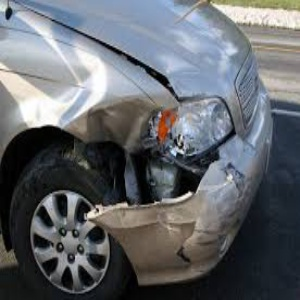bumper: (101, 162, 253, 286)
head_lights: (143, 91, 238, 165)
